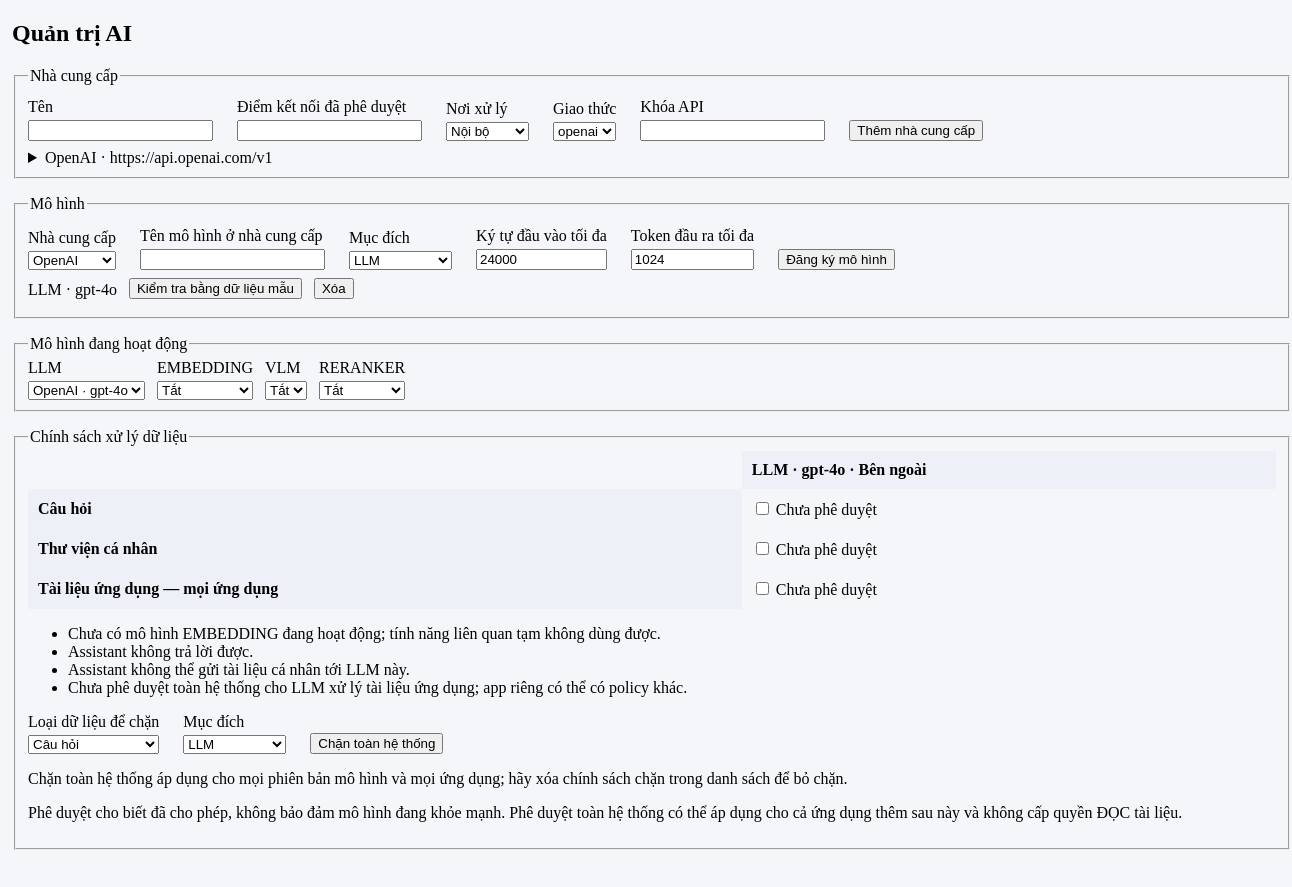
Test: marks the registry stale and blocks writes when the write succeeds but the reload fails
Later steps or results of the test are not shown.
Click the checkbox named "Câu hỏi · LLM · gpt-4o" at (762, 509), box [756,502,769,515]
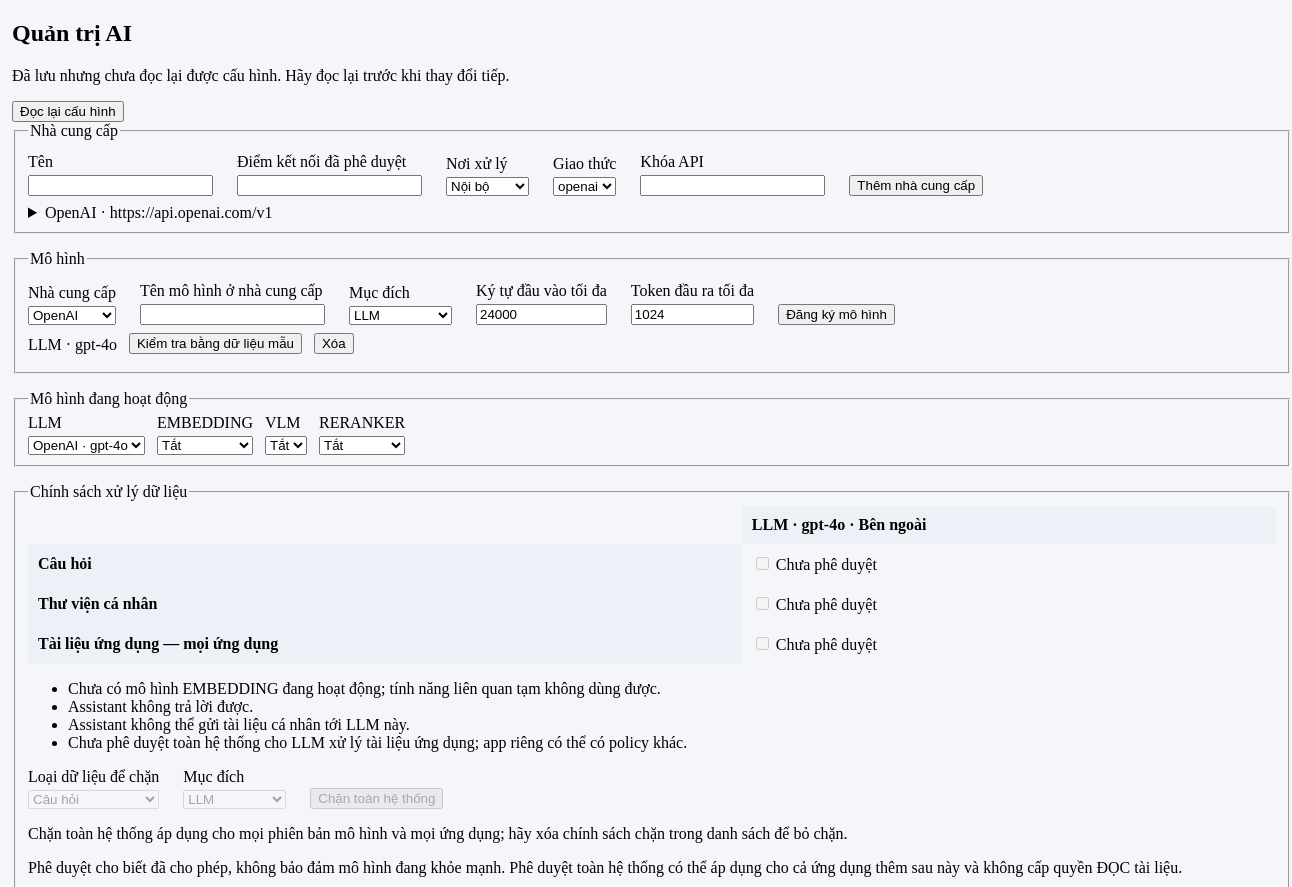
expect the message reads "Đã lưu nhưng chưa đọc lại được cấu hình. Hãy đọc lại trước khi thay đổi tiếp.": met, box [12,67,510,84]
expect the checkbox named "Câu hỏi · LLM · gpt-4o" is disabled: met, box [756,557,769,570]
